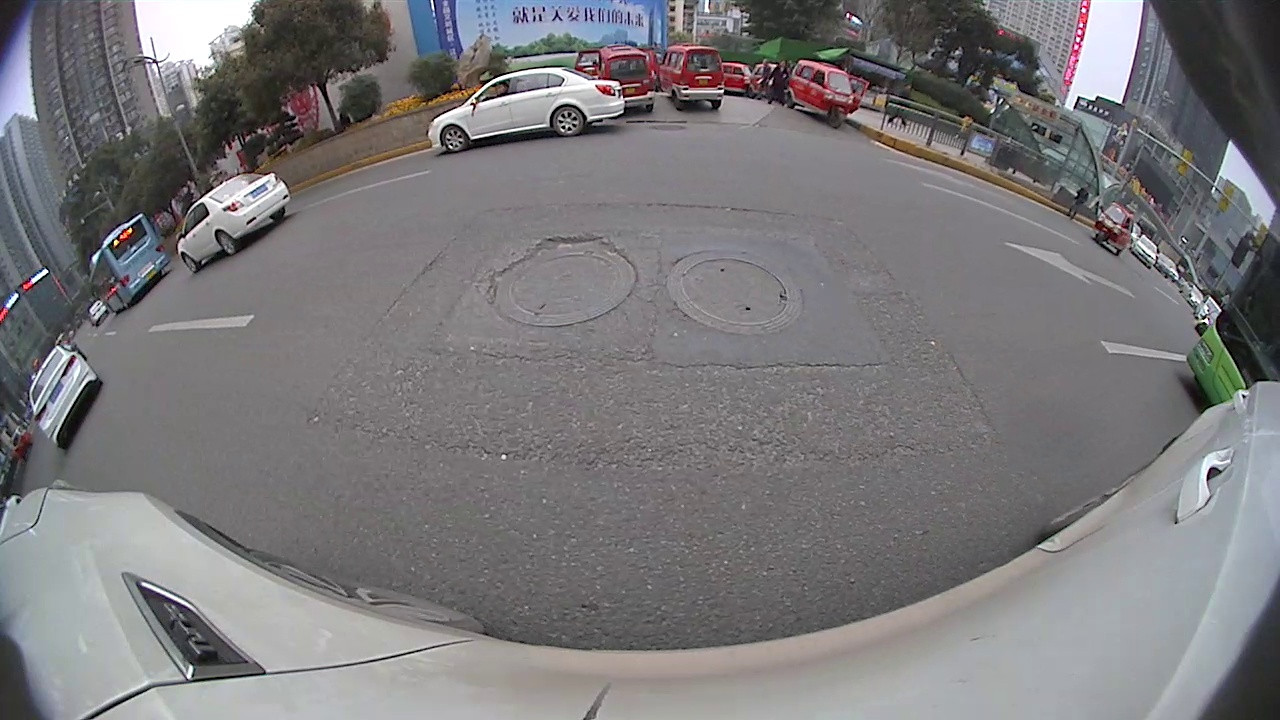bus: (1189, 211, 1279, 423), (87, 214, 172, 317)
car: (426, 63, 624, 151), (178, 170, 291, 274), (27, 339, 104, 452), (1195, 293, 1222, 327), (1133, 233, 1156, 270), (1154, 249, 1175, 281), (1179, 280, 1201, 310)
front: (442, 127, 471, 153), (180, 253, 202, 274)
person: (774, 61, 786, 105)
rear: (552, 108, 584, 138), (215, 231, 243, 257)
rider: (658, 43, 726, 114), (791, 58, 853, 128), (595, 43, 654, 114), (1095, 200, 1133, 252), (718, 61, 758, 98)
